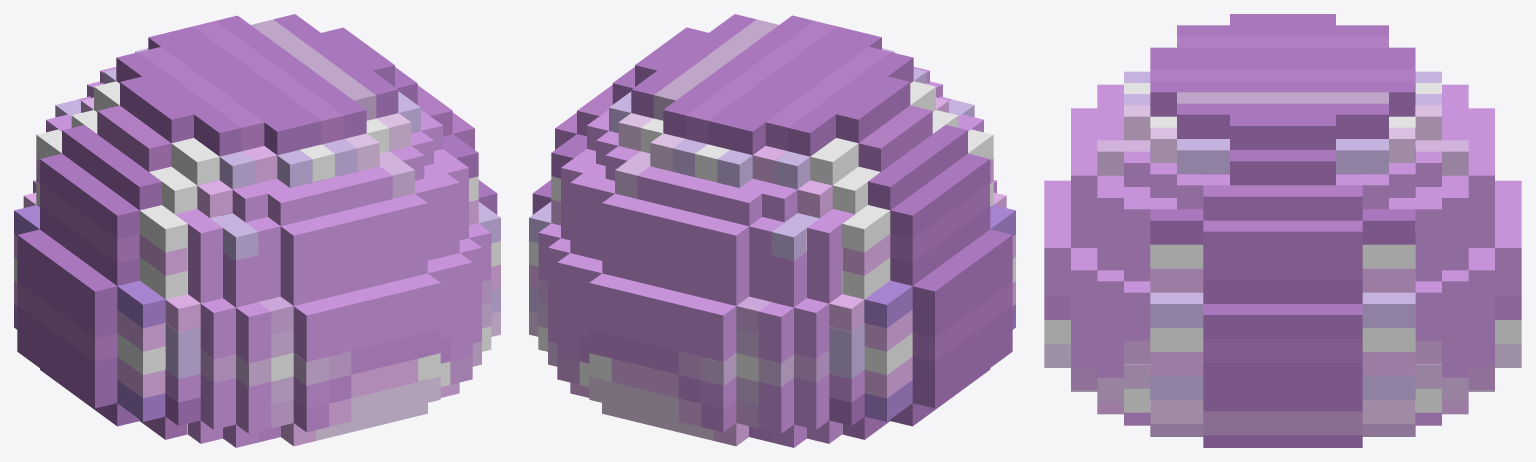
Rendered from 1924_form_sparky.glb.
3 views of the same model, side by side, from view 1: azimuth 30°, elevation 25°; view 2: azimuth 150°, elevation 25°; view 3: azimuth 270°, elevation 25° (orthographic). The views are drawn at different scales.
Bounding box in the file's own units: 18 × 12 × 18.
